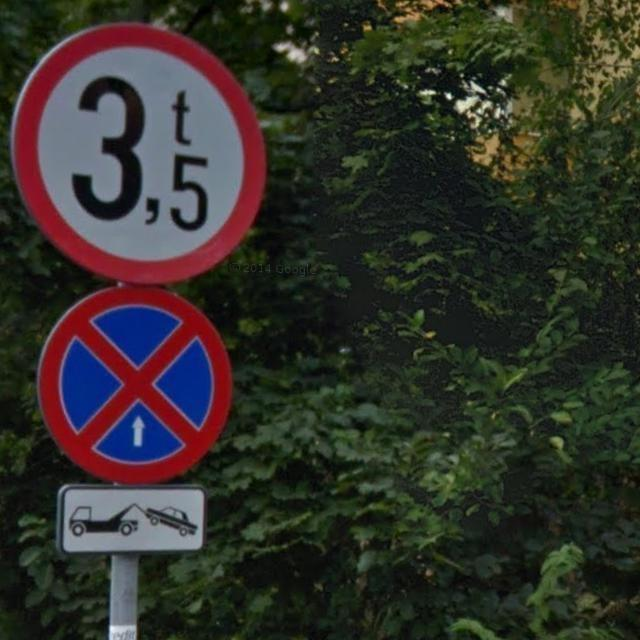forb_waiting: (32, 286, 232, 486)
